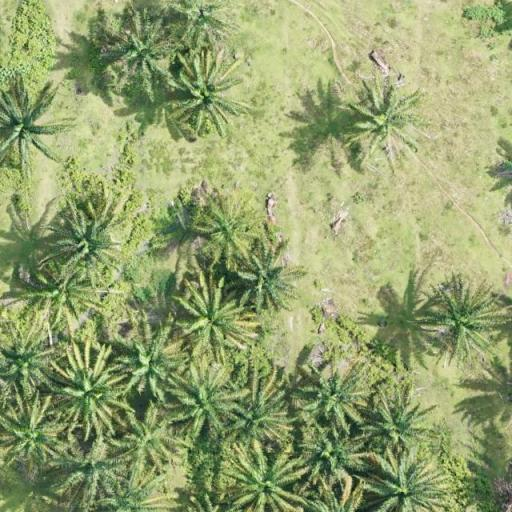Ganoderma: (362, 93, 409, 139)
